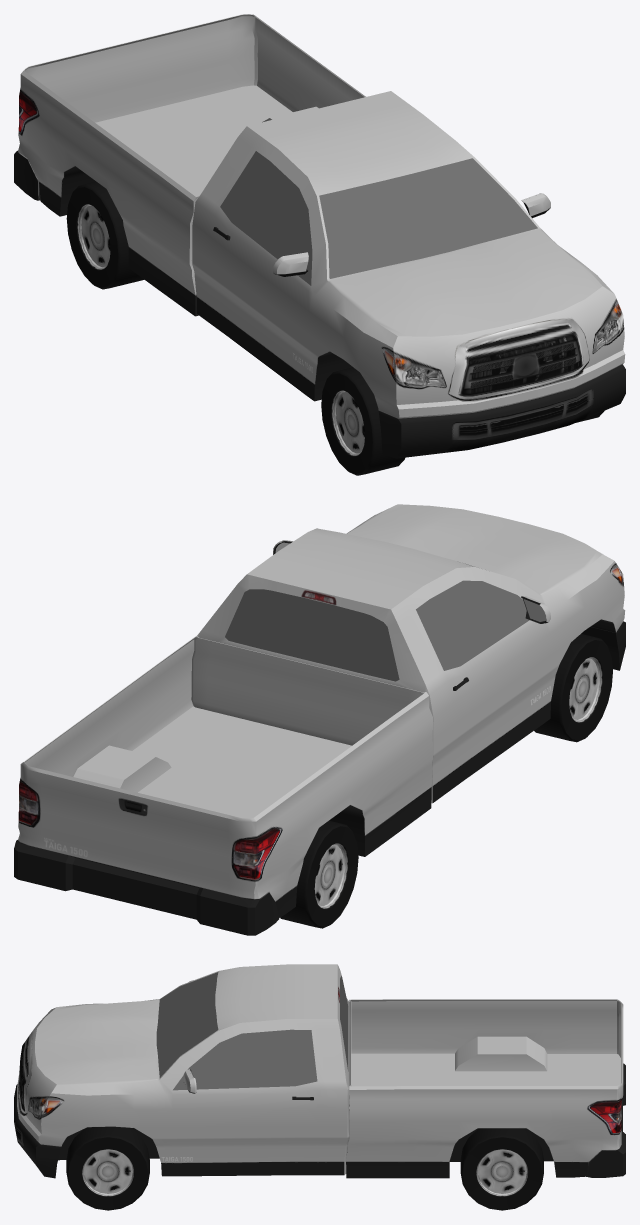
The model's file is taiga.gltf.
3 renders of one model, top to bottom at view 1: azimuth 30°, elevation 25°; view 2: azimuth 150°, elevation 25°; view 3: azimuth 270°, elevation 25°, orthographic. The views are drawn at different scales.
Visible parts, largest first — view 1: polySurface1, pCube2, polySurface2, pCube3, polySurface3, pCylinder4, pCylinder3, pCube4, pasted__pCube5; view 2: pCube2, polySurface1, polySurface4, pCube4, polySurface3, pCylinder4, pCylinder3, pCube3; view 3: polySurface1, pCube2, polySurface5, pCylinder1, pCylinder2, polySurface2, pCube3, pCube4, polySurface4.
Part boxes in pixels (x1=…): polySurface1: x1=192, y1=91, x2=625, y2=418; pCube2: x1=18, y1=14, x2=365, y2=316; polySurface2: x1=319, y1=158, x2=537, y2=278; pCube3: x1=378, y1=364, x2=625, y2=458; polySurface3: x1=220, y1=151, x2=312, y2=285; pCylinder4: x1=321, y1=367, x2=404, y2=475; pCylinder3: x1=66, y1=181, x2=144, y2=289; pCube4: x1=14, y1=150, x2=39, y2=200; pasted__pCube5: x1=273, y1=252, x2=308, y2=276; pCube2: x1=18, y1=636, x2=433, y2=917; polySurface1: x1=197, y1=504, x2=625, y2=803; polySurface4: x1=225, y1=589, x2=399, y2=681; pCube4: x1=14, y1=840, x2=279, y2=935; polySurface3: x1=416, y1=580, x2=529, y2=670; pCylinder4: x1=534, y1=634, x2=612, y2=742; pCylinder3: x1=280, y1=820, x2=358, y2=928; pCube3: x1=581, y1=621, x2=625, y2=670; polySurface1: x1=17, y1=964, x2=349, y2=1176; pCube2: x1=346, y1=999, x2=623, y2=1178; polySurface5: x1=173, y1=1029, x2=317, y2=1090; pCylinder1: x1=66, y1=1126, x2=149, y2=1210; pCylinder2: x1=460, y1=1128, x2=543, y2=1210; polySurface2: x1=156, y1=972, x2=218, y2=1077; pCube3: x1=14, y1=1084, x2=61, y2=1178; pCube4: x1=586, y1=1063, x2=625, y2=1177; polySurface4: x1=340, y1=976, x2=348, y2=1071.
Bounding box in the file's own units: 2.06 × 1.62 × 5.12.
7 materials, 7 textured.
